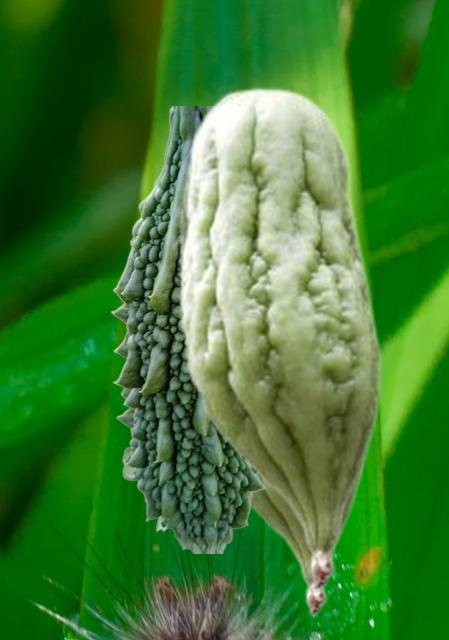ampalaya: (177, 86, 382, 589), (110, 106, 265, 552), (252, 469, 366, 615)
